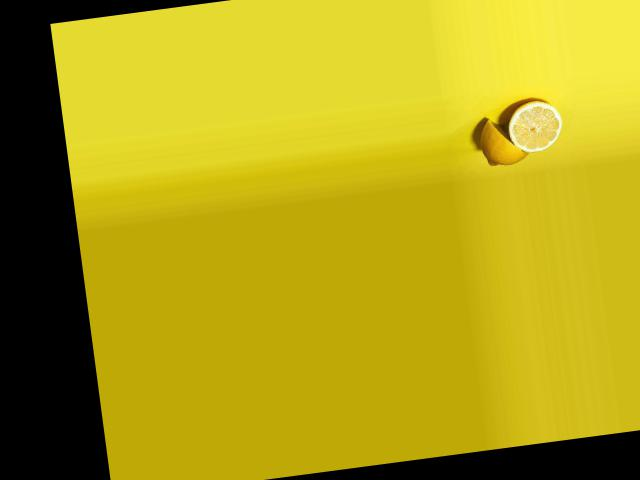lemon: (473, 107, 531, 169)
